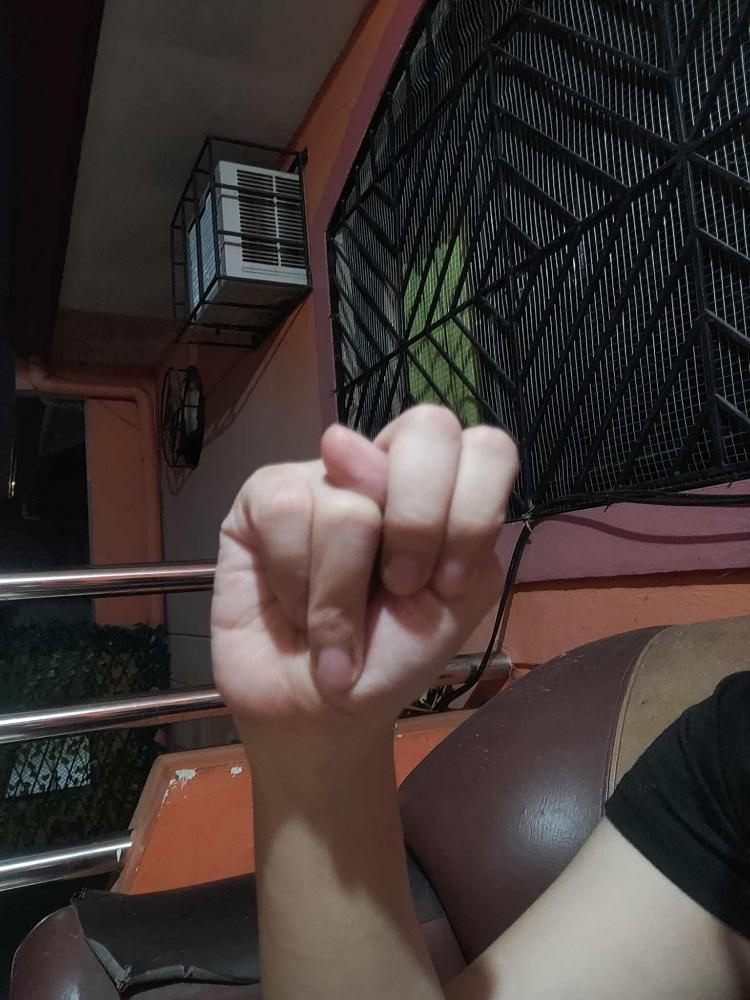n: (208, 401, 518, 727)
